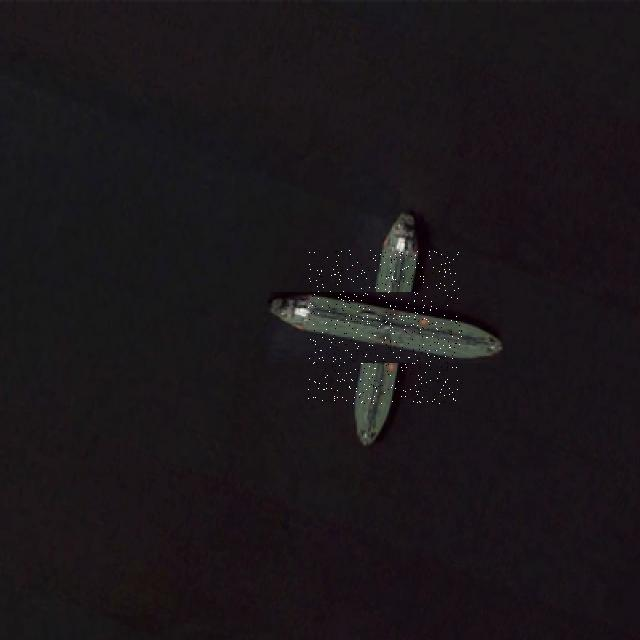boat: (308, 250, 462, 404)
